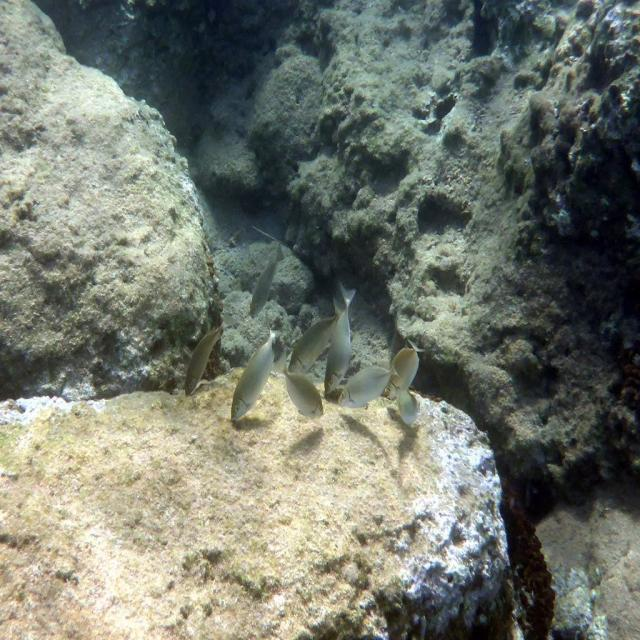Sokar Baligi: (226, 323, 282, 433), (335, 346, 403, 420)
